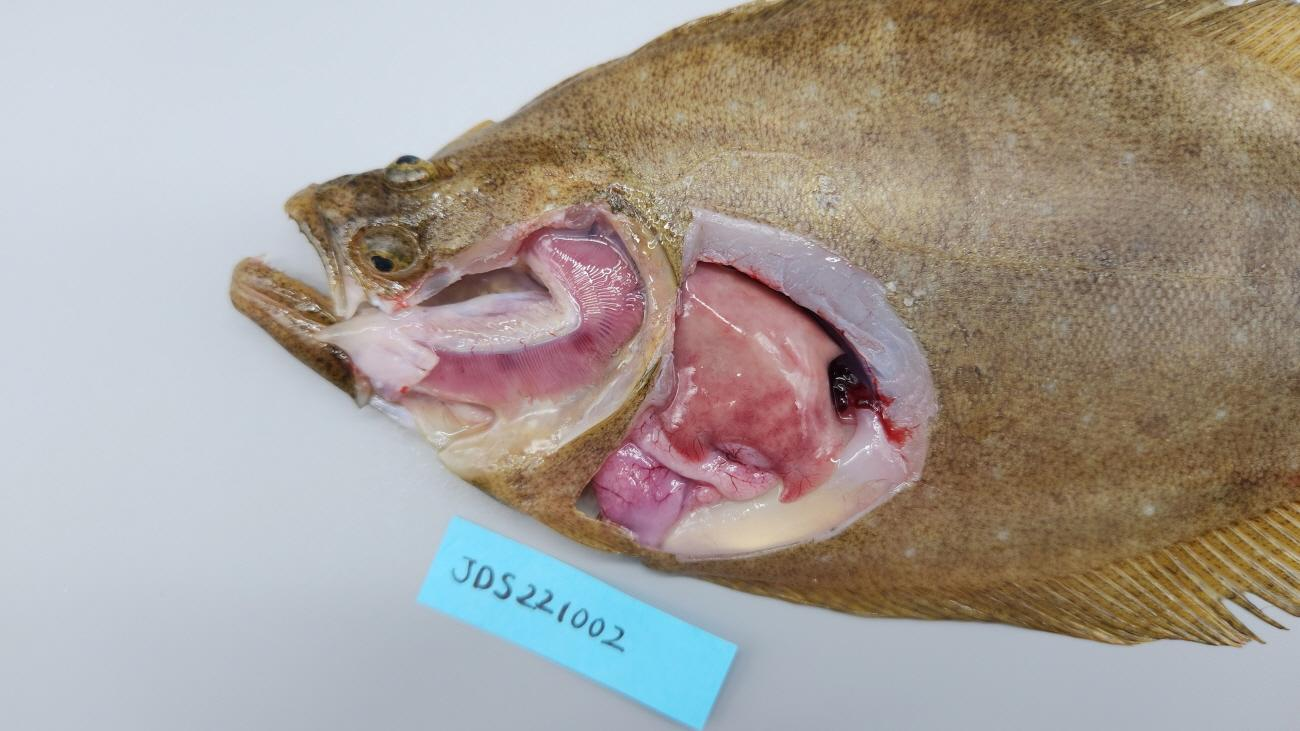VIGIP: (416, 235, 645, 398)
VILIC: (654, 257, 846, 502)
